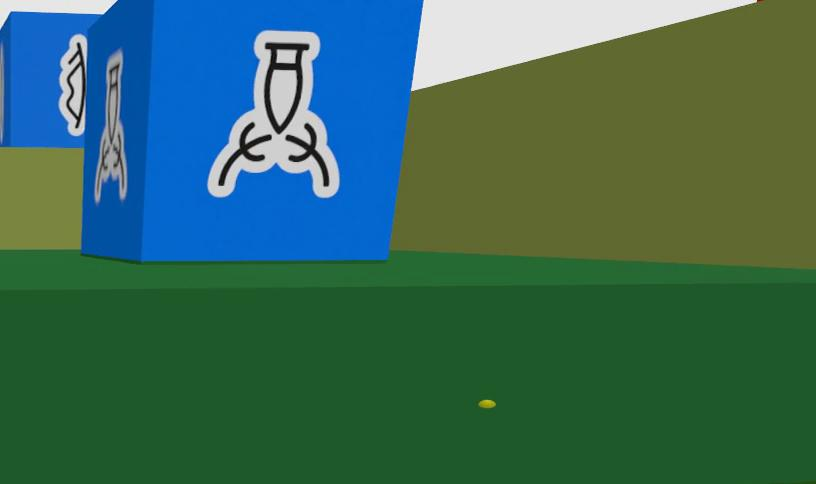KFS_REAL: (81, 0, 420, 261), (0, 11, 99, 147), (93, 51, 127, 203), (59, 34, 87, 135)
